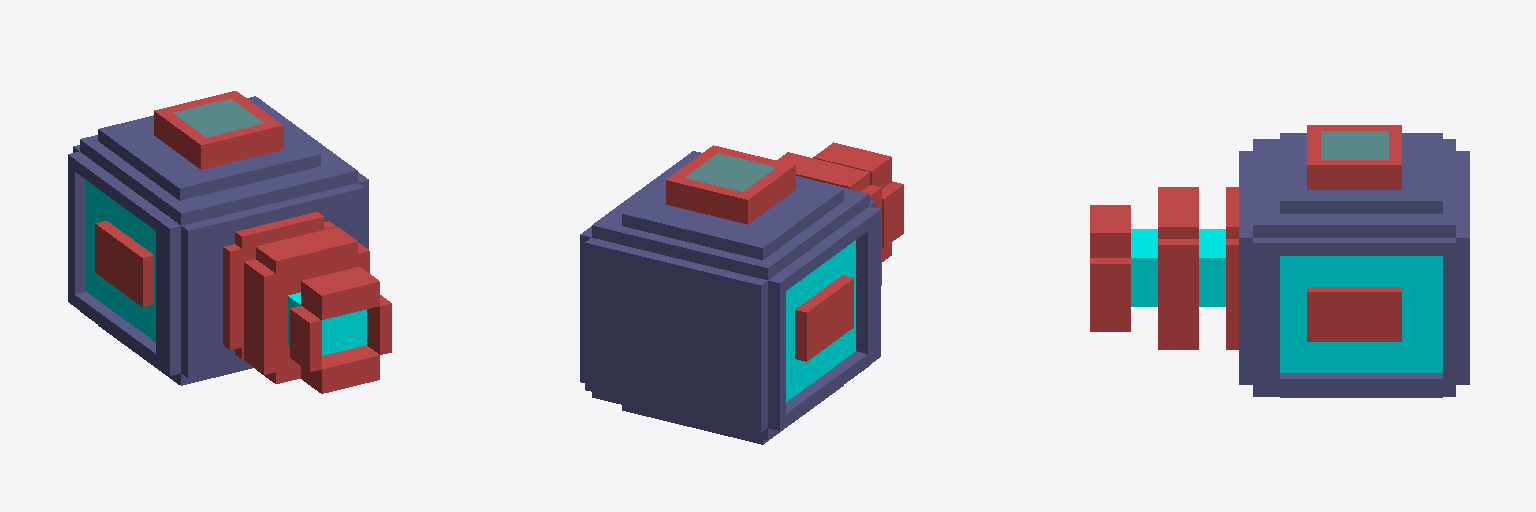
3 renders of one model, left to right at view 1: azimuth 30°, elevation 25°; view 2: azimuth 150°, elevation 25°; view 3: azimuth 270°, elevation 25°, orthographic.
Bounding box in the file's own units: 17 × 18 × 28.
Materials: 1 (1 with a texture image).